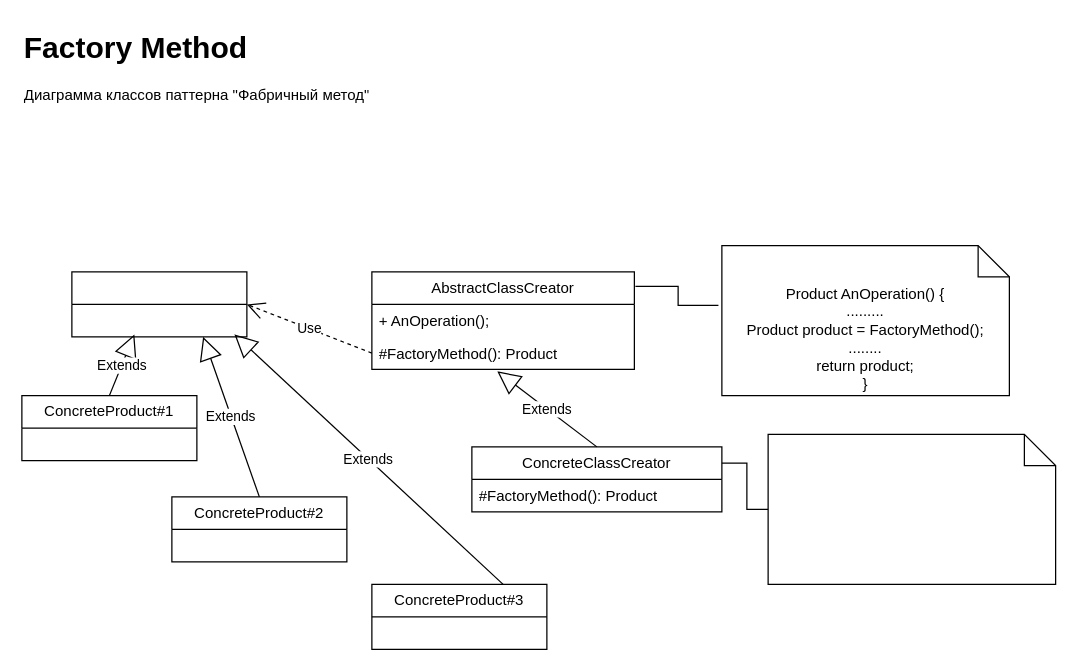
The diagram is 1078 pixels wide and 671 high, and some of its shapes have lost their labels. The centre of each missing label's shape, as x and y in pixels:
". return ConreteProduct" belongs at point (911, 508).
"Product" belongs at point (159, 304).
